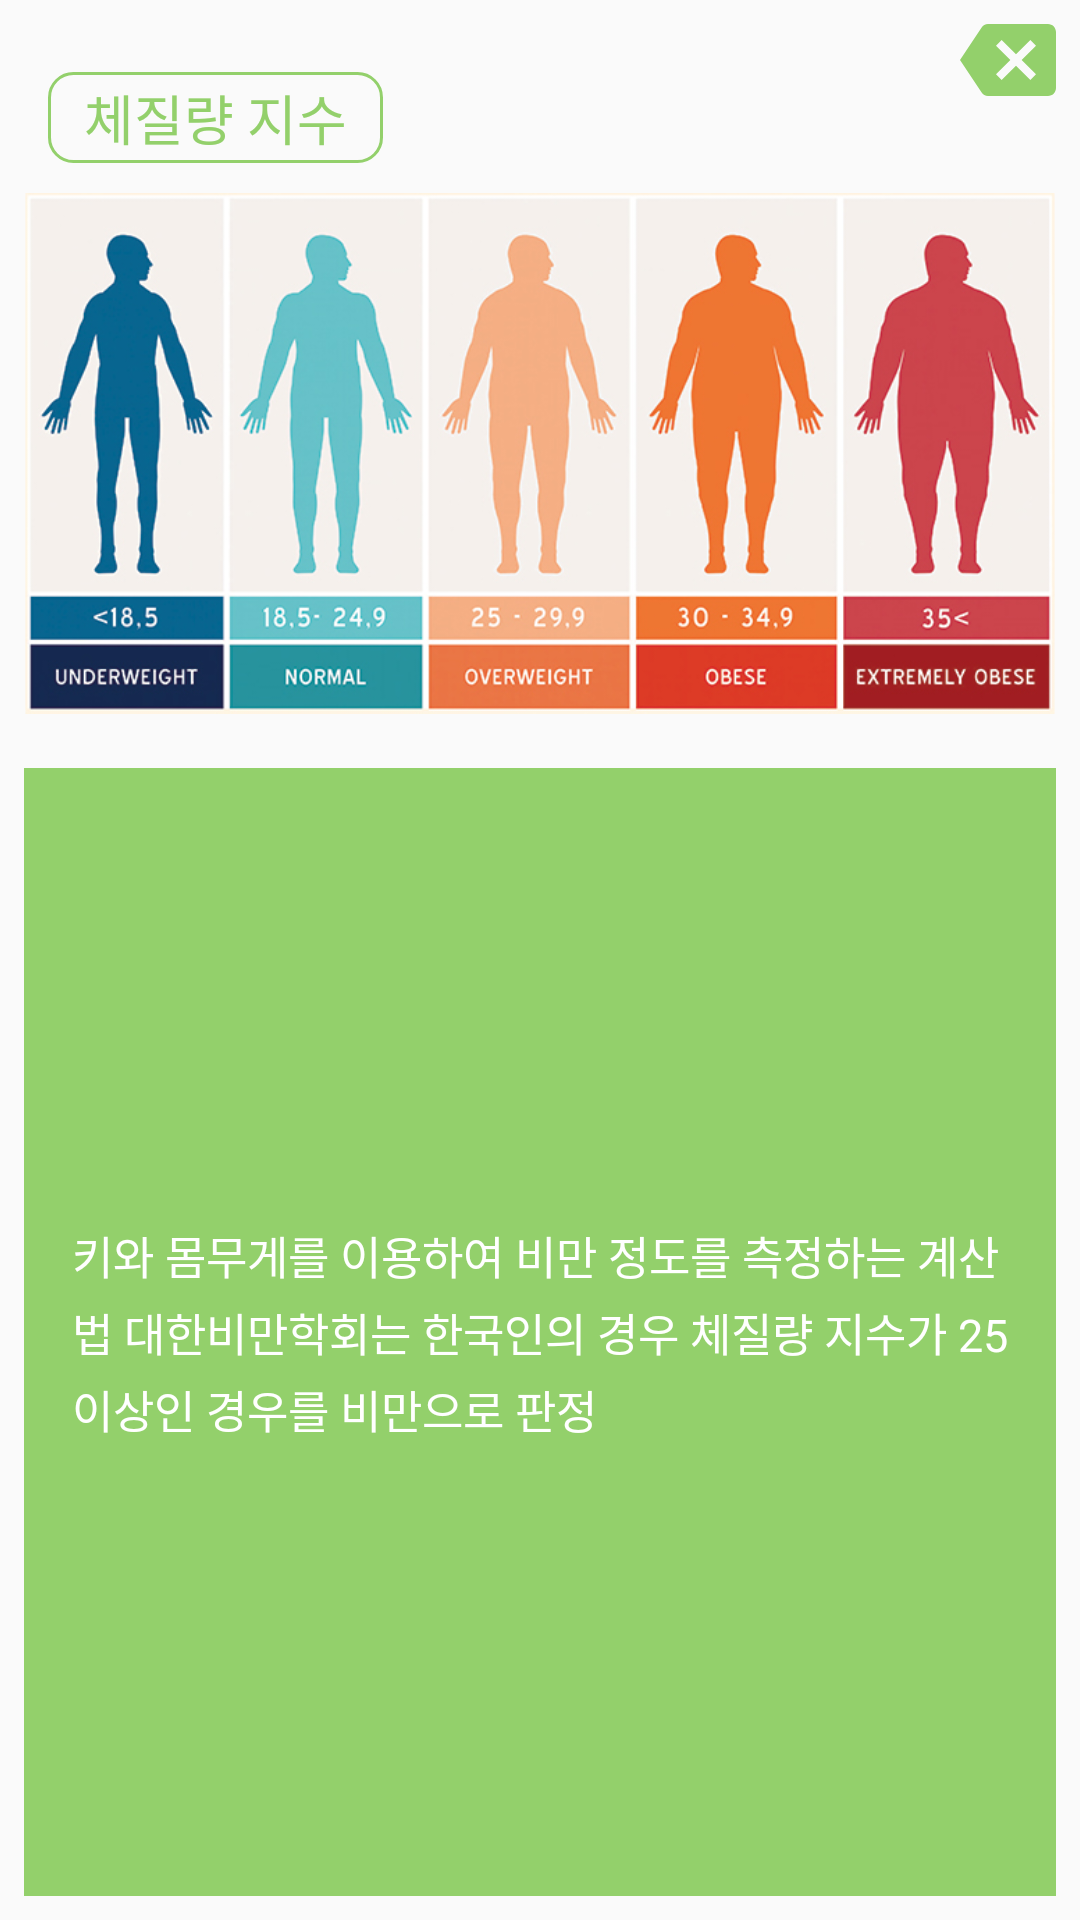

Icons on this 1080x1920 Android screen, each with the point to tap as [x,y]:
backspace: [1008,60]
